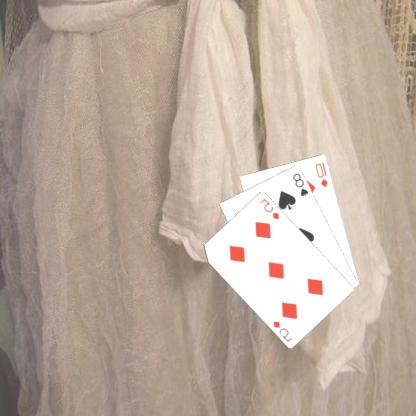10D: (314, 160, 332, 188)
5D: (272, 318, 296, 343), (259, 196, 282, 220)
8S: (291, 170, 312, 198)
